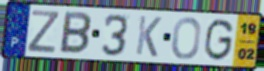3: (101, 13, 130, 58)
B: (57, 10, 93, 56)
G: (203, 18, 236, 63)
K: (134, 14, 163, 59)
O: (170, 16, 203, 61)
Z: (25, 9, 62, 55)
